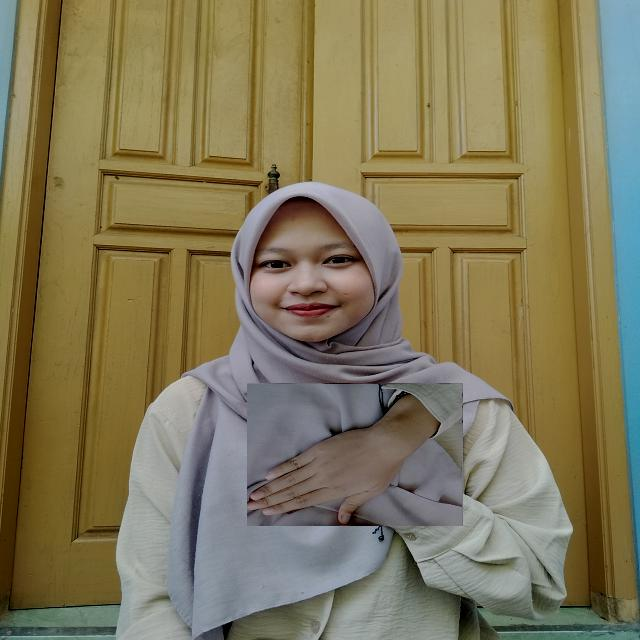tolong: (247, 383, 463, 526)
